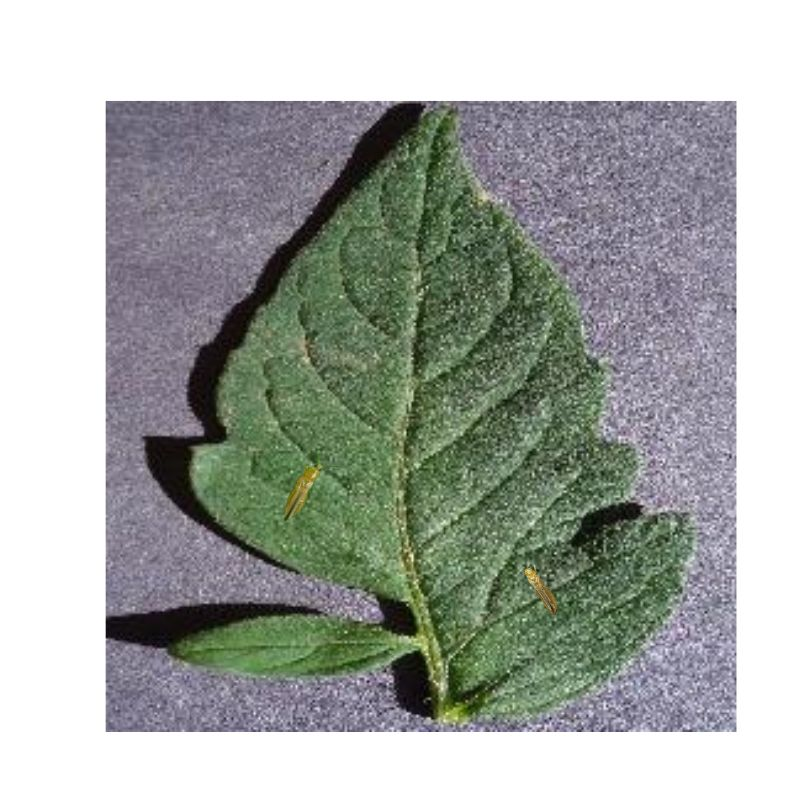thrips: (282, 460, 324, 522), (521, 562, 561, 616)
